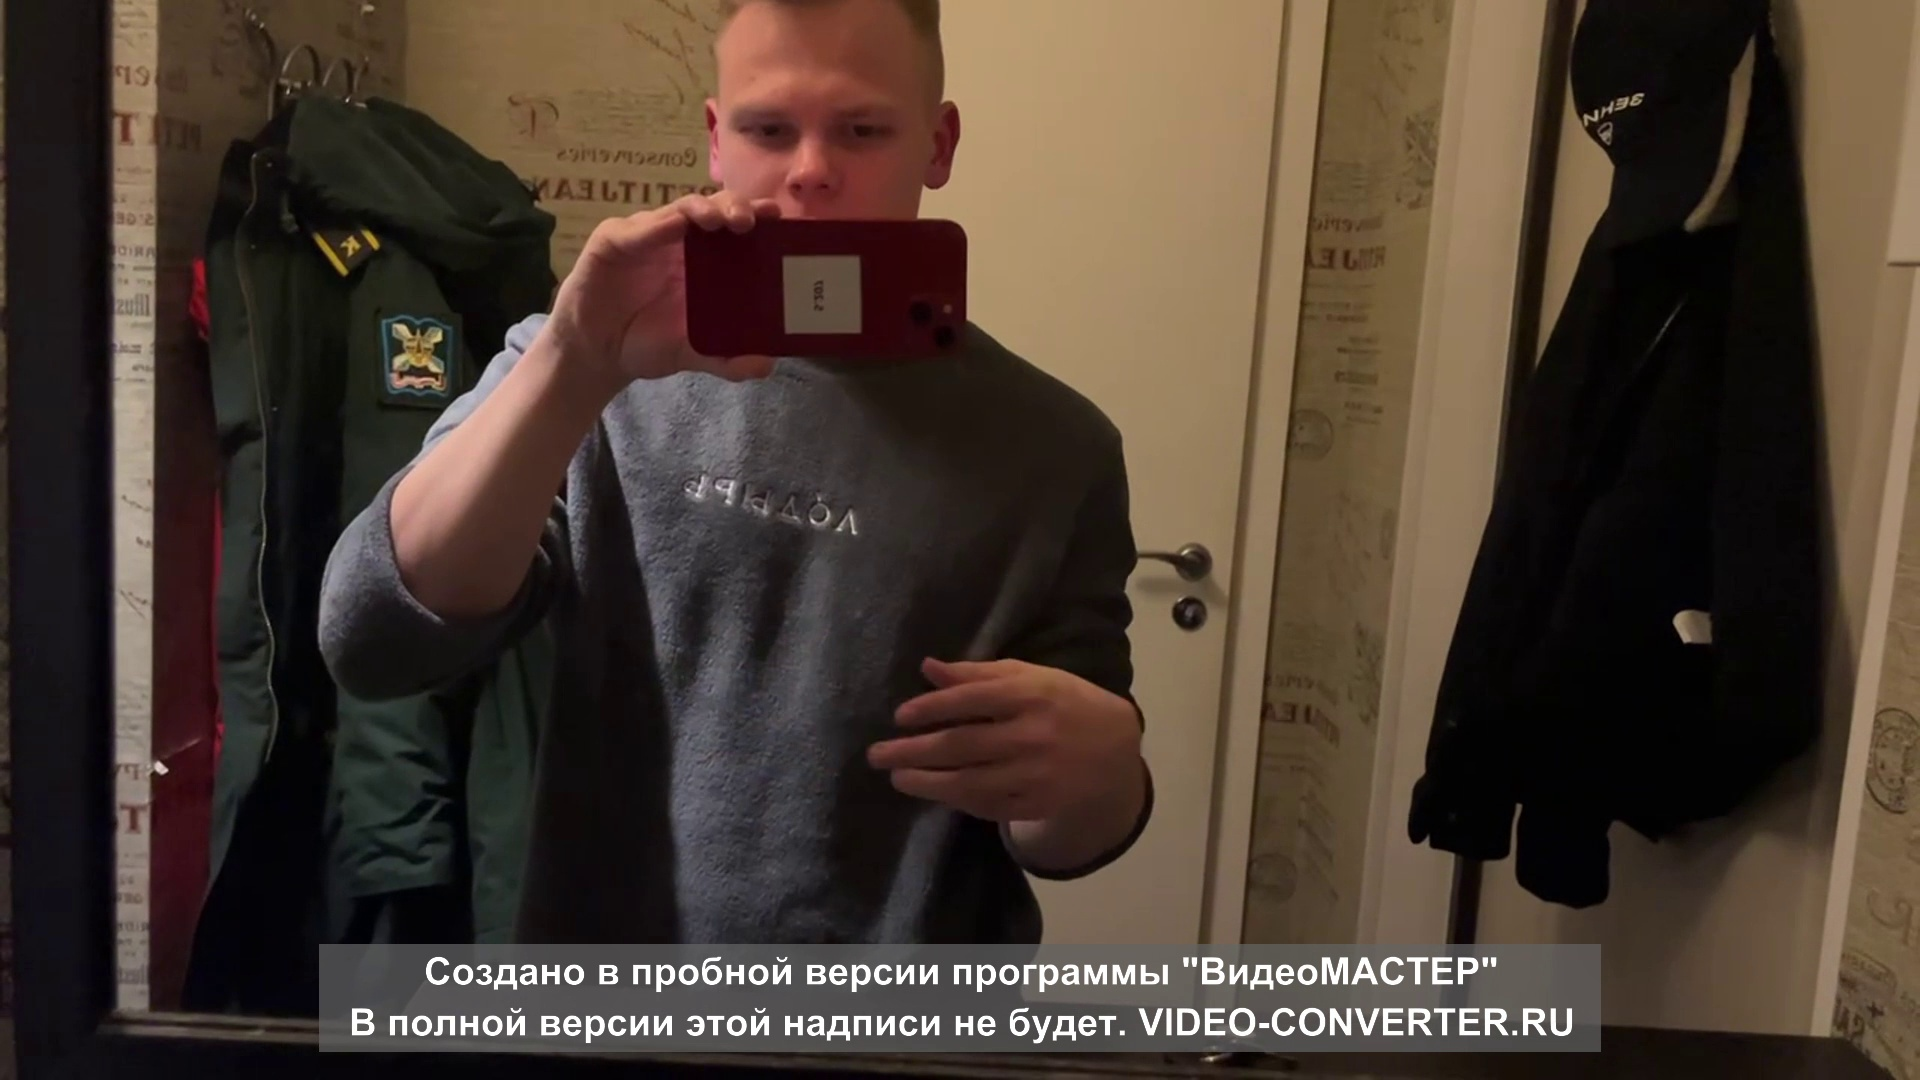Кисть: (869, 655, 1143, 820)
